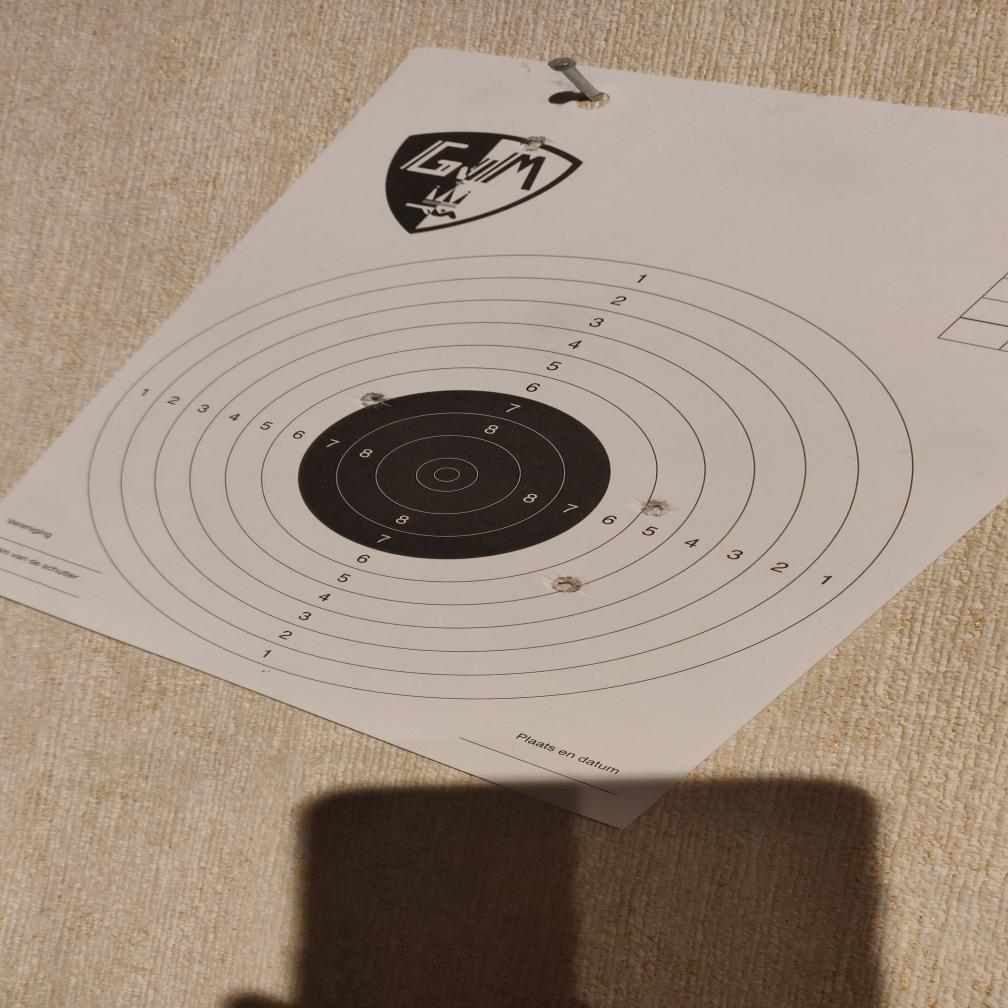0: (518, 135, 554, 154)
5: (543, 573, 588, 595)
6: (637, 496, 674, 517)
7: (352, 391, 393, 411)
Target: (86, 253, 916, 702)
black_contour: (296, 391, 614, 561)
